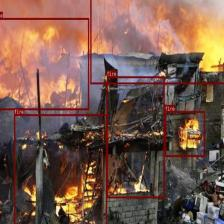fire: (89, 0, 224, 83), (13, 114, 106, 224), (0, 18, 89, 110), (107, 76, 164, 198), (164, 111, 204, 157)
